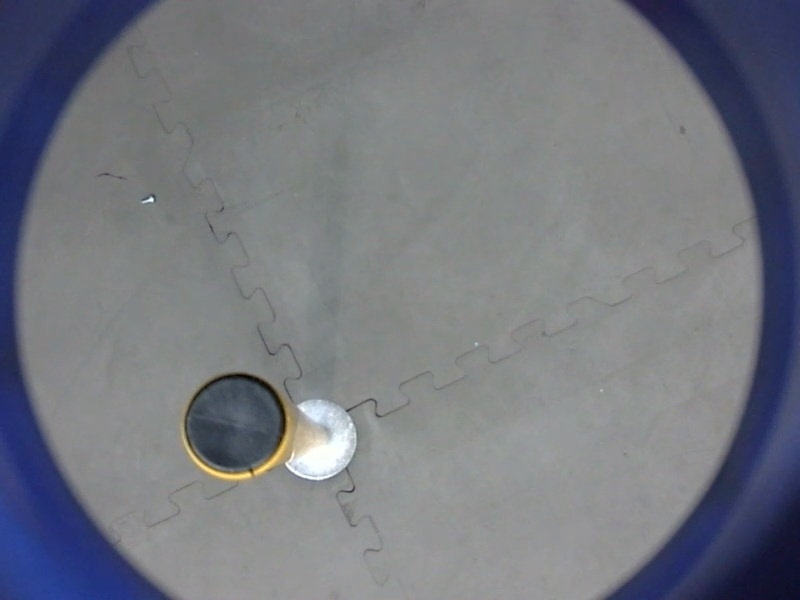tip: (173, 364, 300, 488)
